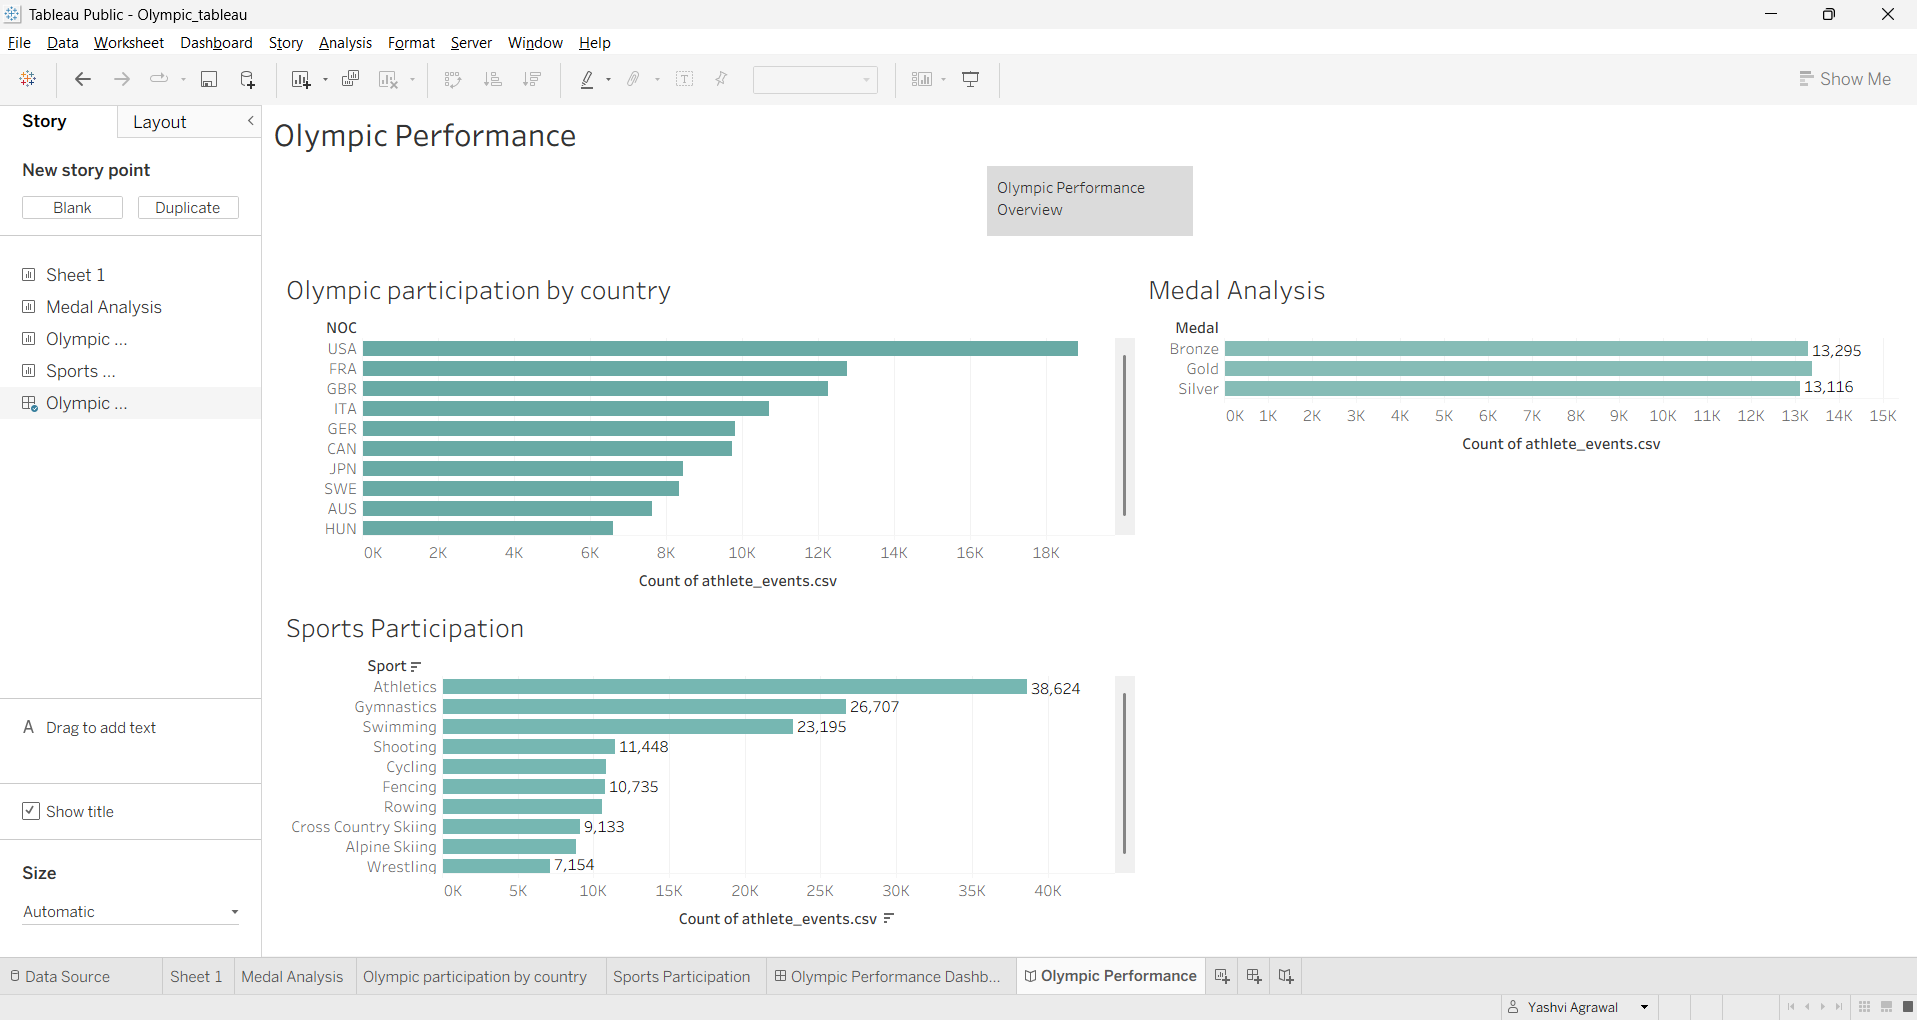

The dashboard page shown, as its layout file describes it:
{"tool":"tableau","page":{"name":"Olympic Performance Dashboard","canvas":[1000,1000],"units":"permille","ordinal":0},"visuals":[{"type":"worksheet","title":"Olympic participation by country","mark":"Automatic","rows":["NOC"],"cols":["athlete_events.csv_2B6BFF70D6CE4DABBAB8D5D1299CC5F6"],"box":[4.8,9.4,525,490.6]},{"type":"worksheet","title":"Medal Analysis","mark":"Automatic","rows":["Medal"],"cols":["athlete_events.csv_2B6BFF70D6CE4DABBAB8D5D1299CC5F6"],"box":[529.9,9.4,465.3,981.2]},{"type":"worksheet","title":"Sports Participation","mark":"Automatic","rows":["Sport"],"cols":["athlete_events.csv_2B6BFF70D6CE4DABBAB8D5D1299CC5F6"],"box":[4.8,500,525,490.6]}]}

Visuals, with their boxes on the dashboard's canvas, which has no fixed pixel size, in thousandths of its width and height (x1, y1, x2, y2). These are canvas units, not pixel positions in the 1917x1020 screenshot, which may show the page scaled, cropped or inside an application window:
"Olympic participation by country" worksheet: 5/9/530/500
"Medal Analysis" worksheet: 530/9/995/991
"Sports Participation" worksheet: 5/500/530/991
